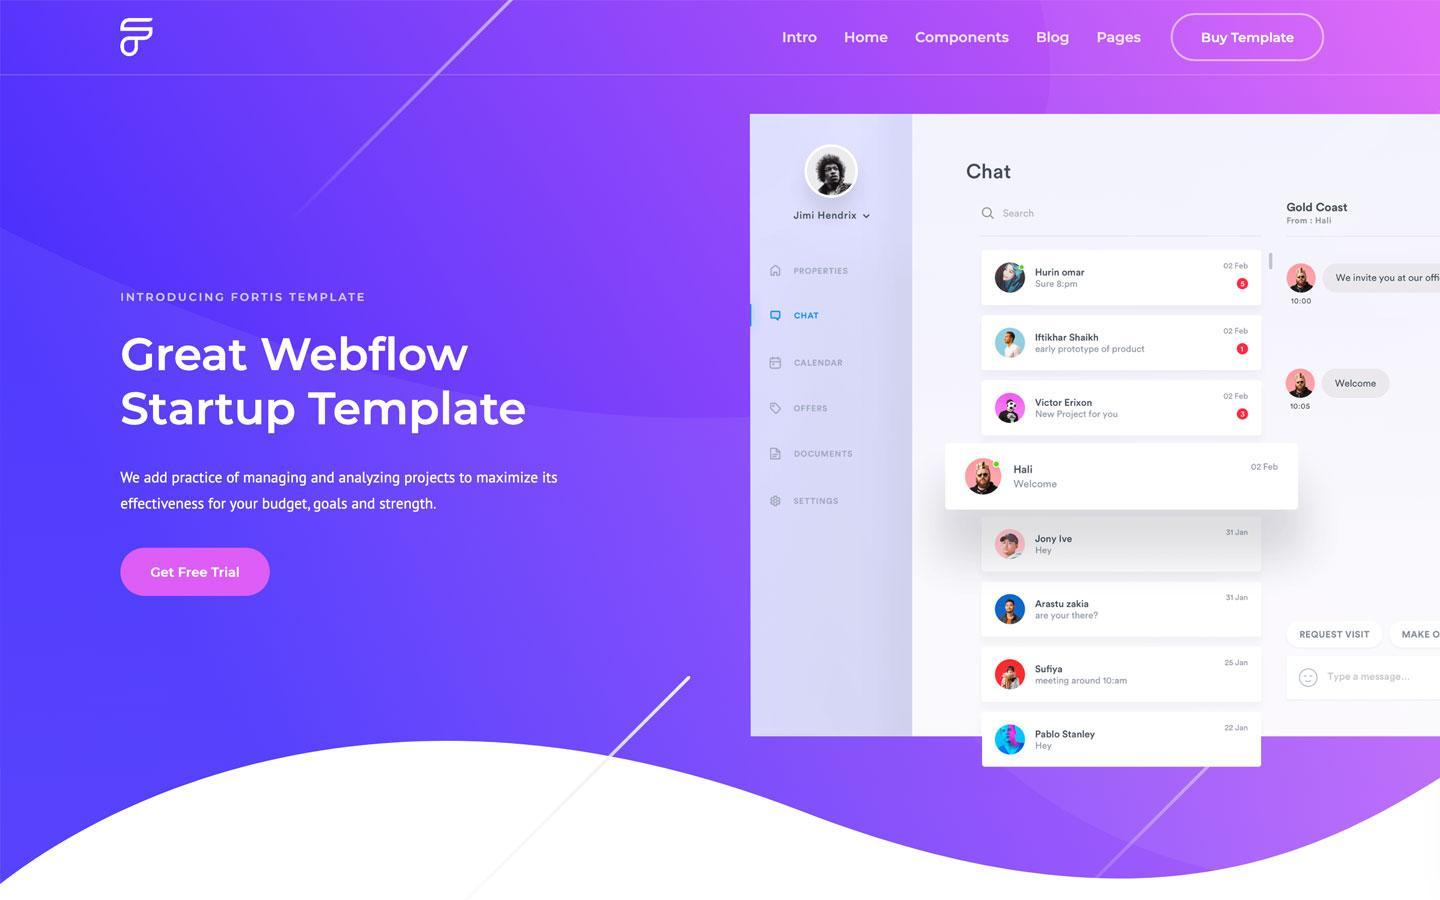button: (1170, 12, 1326, 62), (120, 549, 274, 598)
dropdown: (788, 213, 874, 226)
icon: (767, 447, 783, 463), (768, 356, 784, 371), (769, 401, 782, 417), (771, 264, 784, 279), (770, 310, 781, 324)
label: (121, 336, 529, 430), (118, 467, 565, 546), (115, 285, 370, 306), (912, 29, 1014, 49), (961, 163, 1020, 182), (777, 29, 822, 51), (1279, 202, 1353, 216), (844, 29, 892, 47), (1096, 31, 1142, 49), (794, 449, 856, 461), (792, 358, 846, 370), (1035, 30, 1071, 48), (793, 266, 850, 276), (793, 401, 832, 415), (794, 313, 820, 321)
